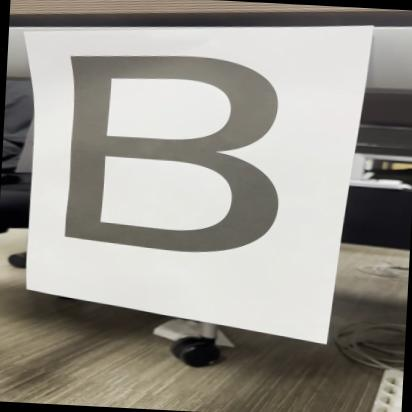seat: (33, 40, 304, 274)
